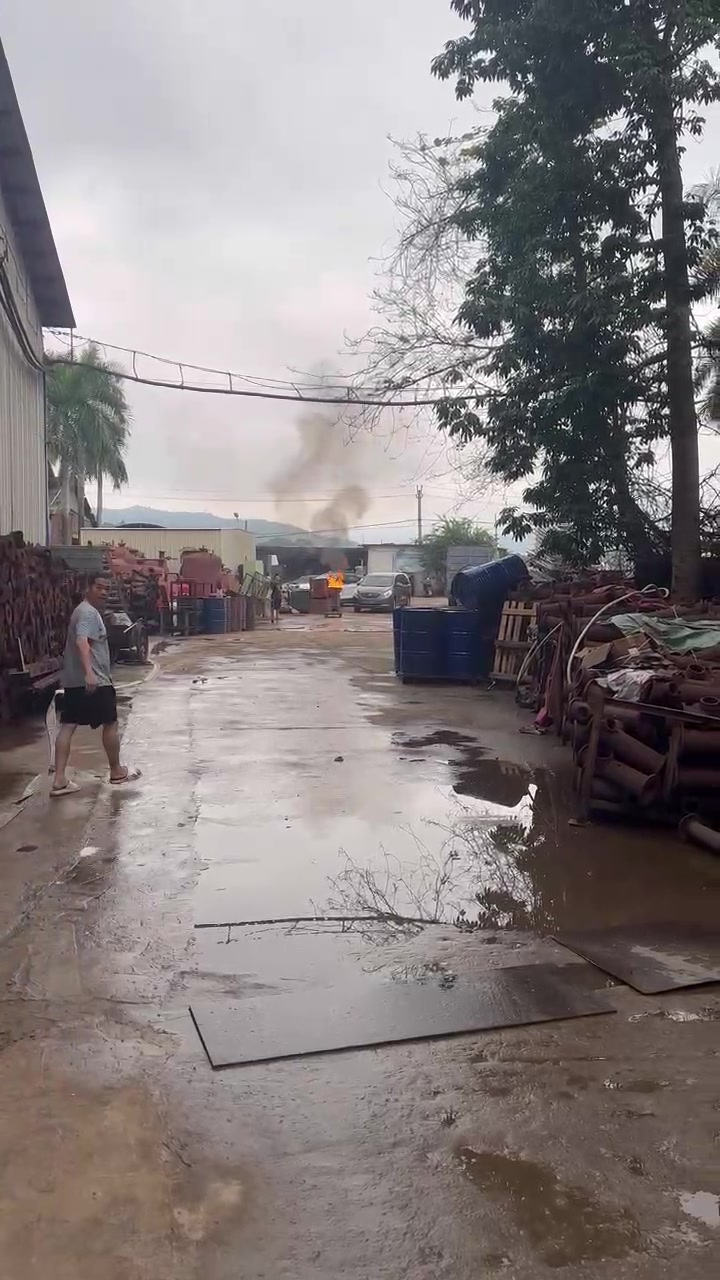fire: (327, 570, 342, 587)
